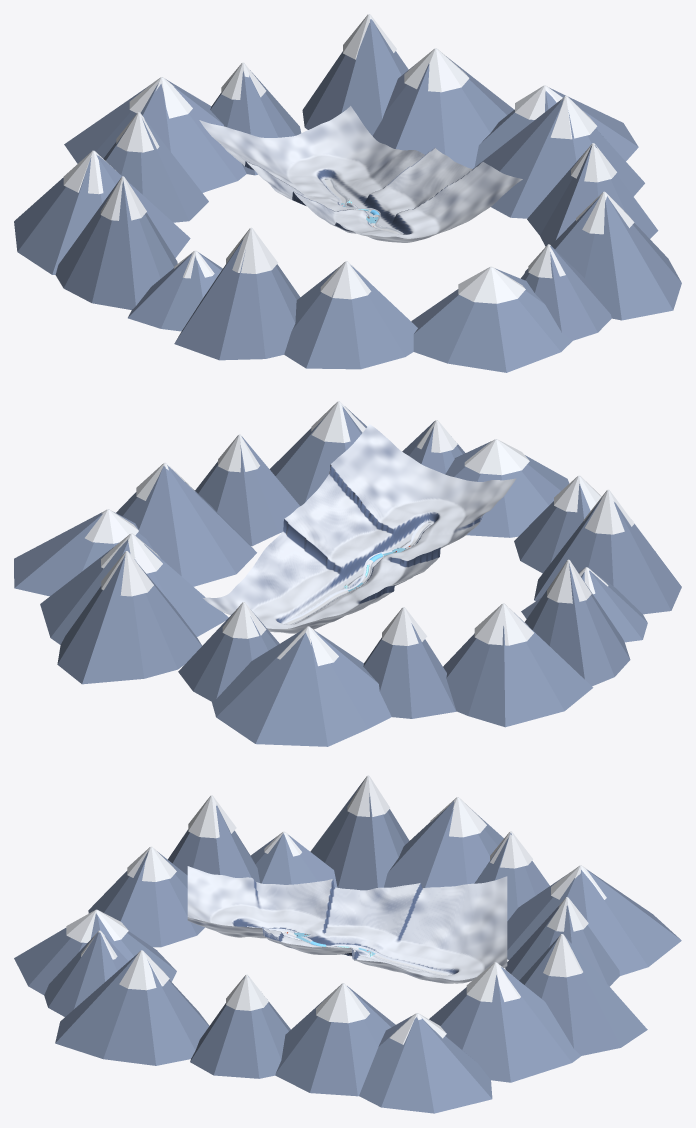
Rendered from lago_cristal.glb.
3 renders of one model, top to bottom at view 1: azimuth 30°, elevation 25°; view 2: azimuth 150°, elevation 25°; view 3: azimuth 270°, elevation 25°, orthographic. The views are drawn at different scales.
Parts seen in each view (by area): view 1: terrain, mtn4, mtn6, mtn2, mtn5, mtn8, mtn14, mtn11, mtn0, mtn9, mtn13, mtn10 (+21 smaller); view 2: terrain, mtn11, mtn13, mtn9, mtn0, mtn6, mtn8, mtn1, mtn14, mtn10, mtn4, mtn15 (+20 smaller); view 3: terrain, mtn2, mtn14, mtn15, mtn11, mtn0, mtn13, mtn1, mtn9, mtn8, mtn5, mtn4 (+20 smaller).
Part boxes in pixels (box(x1,y1,x2,y2)): terrain: box(199, 106, 522, 242); mtn4: box(411, 268, 572, 372); mtn6: box(174, 239, 300, 360); mtn2: box(524, 196, 681, 320); mtn5: box(284, 265, 417, 369); mtn8: box(55, 180, 177, 309); mtn14: box(373, 56, 513, 168); mtn11: box(64, 79, 246, 192); mtn0: box(473, 98, 644, 218); mtn9: box(14, 154, 190, 274); mtn13: box(302, 19, 408, 135); mtn10: box(103, 118, 208, 222); terrain: box(203, 424, 516, 633); mtn11: box(212, 629, 391, 746); mtn13: box(57, 554, 201, 684); mtn9: box(443, 613, 593, 727); mtn0: box(116, 465, 256, 586); mtn6: box(534, 498, 681, 614); mtn8: box(525, 563, 630, 686); mtn1: box(195, 436, 299, 546); mtn14: box(40, 539, 228, 644); mtn10: box(363, 608, 456, 718); mtn4: box(445, 441, 569, 537); mtn15: box(14, 512, 154, 596); terrain: box(187, 866, 507, 983); mtn2: box(55, 954, 209, 1065); mtn14: box(429, 967, 580, 1082); mtn15: box(359, 1016, 492, 1113); mtn11: box(507, 869, 681, 975); mtn0: box(275, 986, 395, 1096); mtn13: box(519, 937, 647, 1055); mtn1: box(190, 976, 290, 1078); mtn9: box(384, 800, 503, 888); mtn8: box(310, 779, 409, 890); mtn5: box(88, 851, 204, 947); mtn4: box(14, 913, 176, 995).
Size of what is drawn, in the model's own units: 2937 by 491 by 3111.
